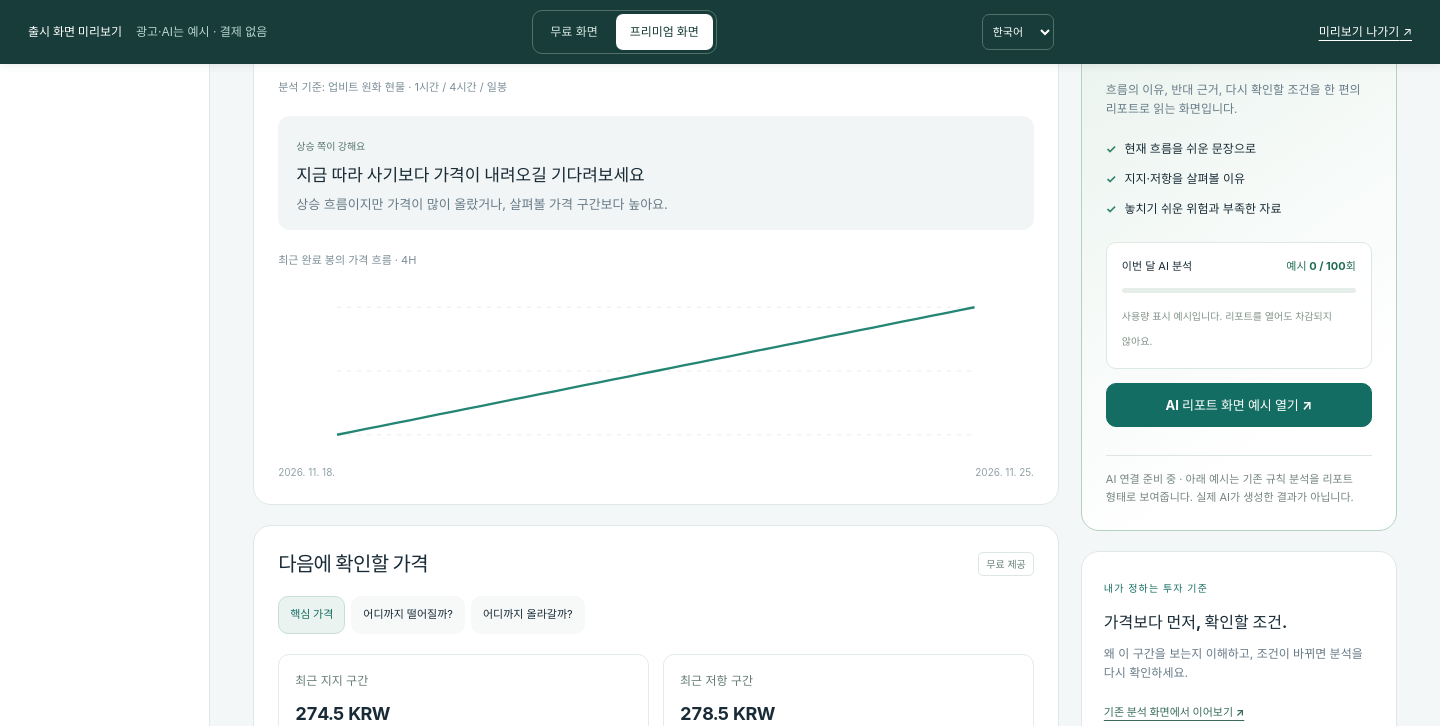
Test case: Customer plan launch preview › keeps report snapshots tied to their asset and hides them when switching back to free
(page scrolled)
Click the button "AI 리포트 화면 예시 열기 ↗" at (1239, 405), box left=1106, top=383, right=1372, bottom=427
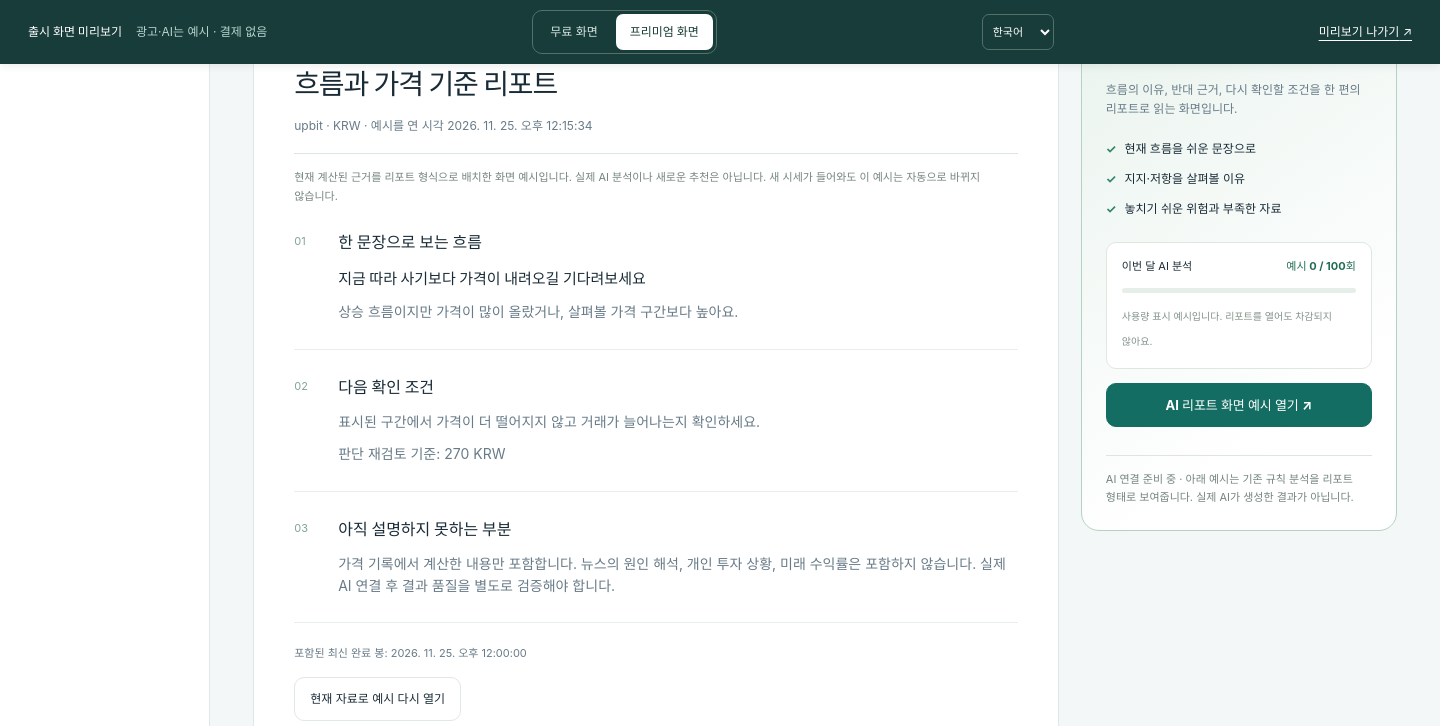
Expected: the 1st heading is shown, left=294, top=28, right=557, bottom=101
Click the button "무료 화면" at (574, 32), box left=536, top=14, right=612, bottom=50
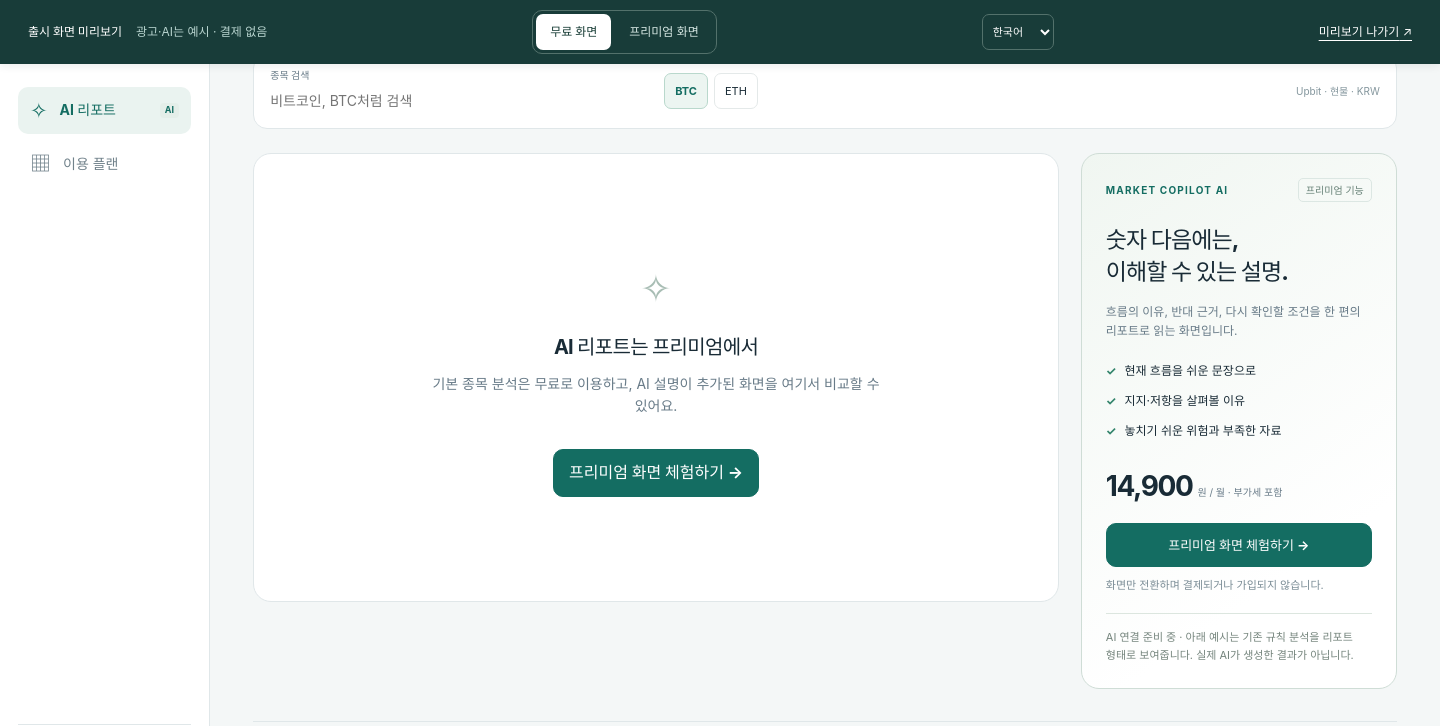
Expected: the text "AI 미연결 · 규칙 기반 예시" is not shown
Expected: the heading "AI 리포트는 프리미엄에서" is shown, left=554, top=335, right=758, bottom=359
Click the button "프리미엄 화면" at (664, 32), box left=615, top=14, right=713, bottom=50
(page scrolled)
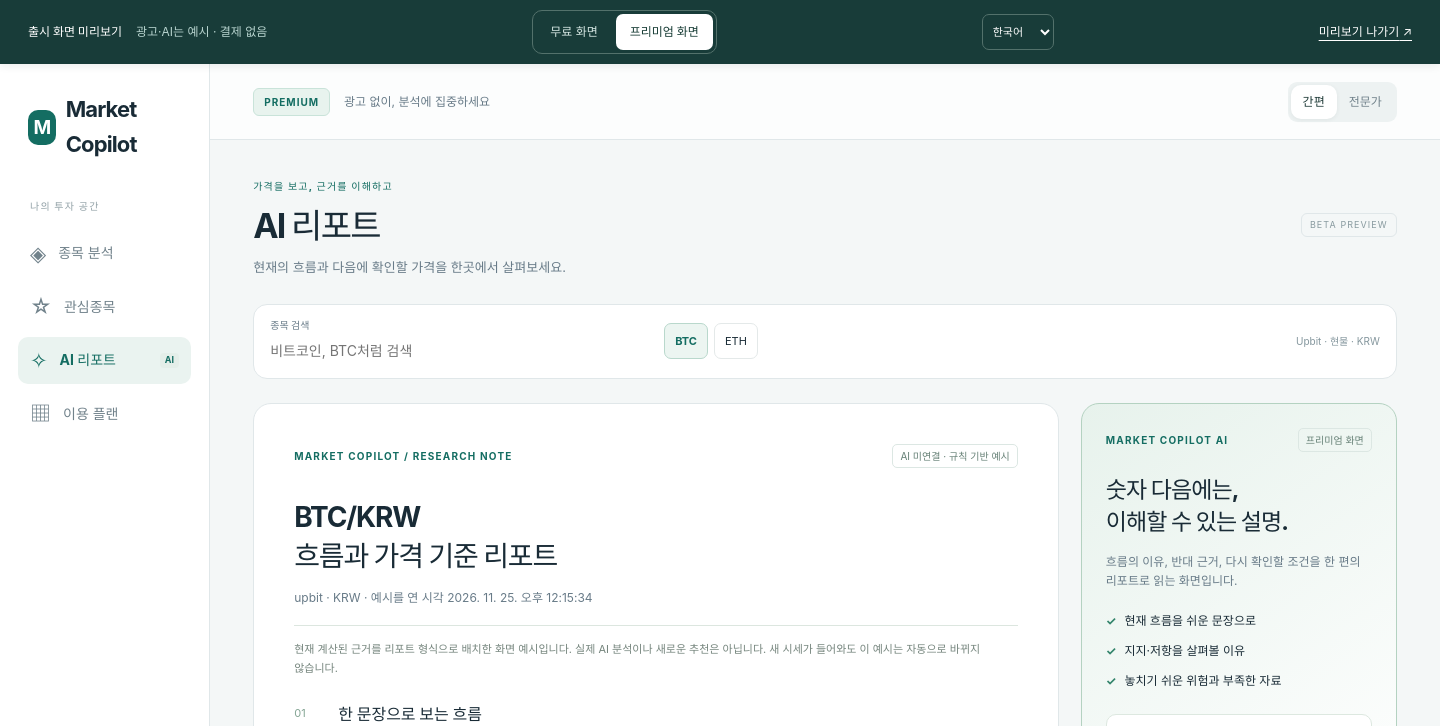
Click the button "ETH" at (736, 341), box left=714, top=323, right=758, bottom=359
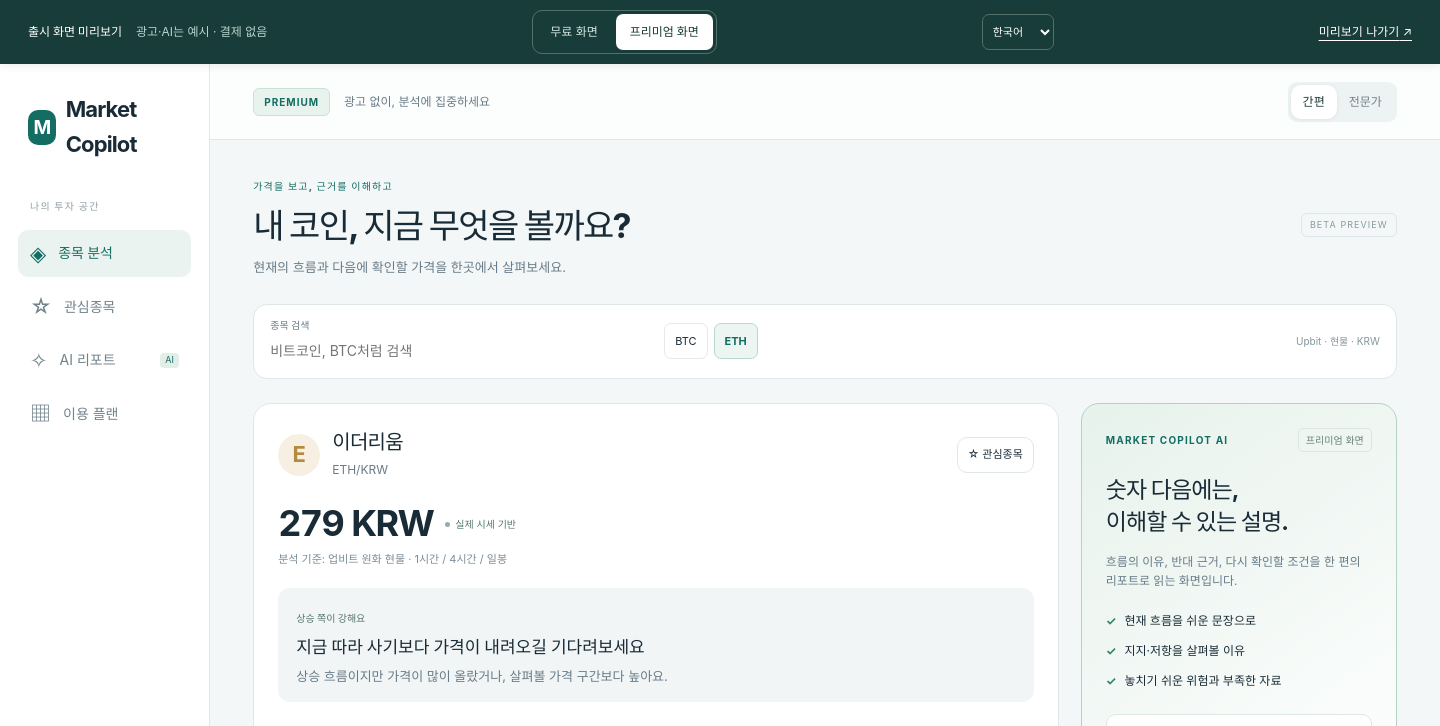
Click the button "✧ AI 리포트 AI" at (104, 360), box left=18, top=337, right=191, bottom=384
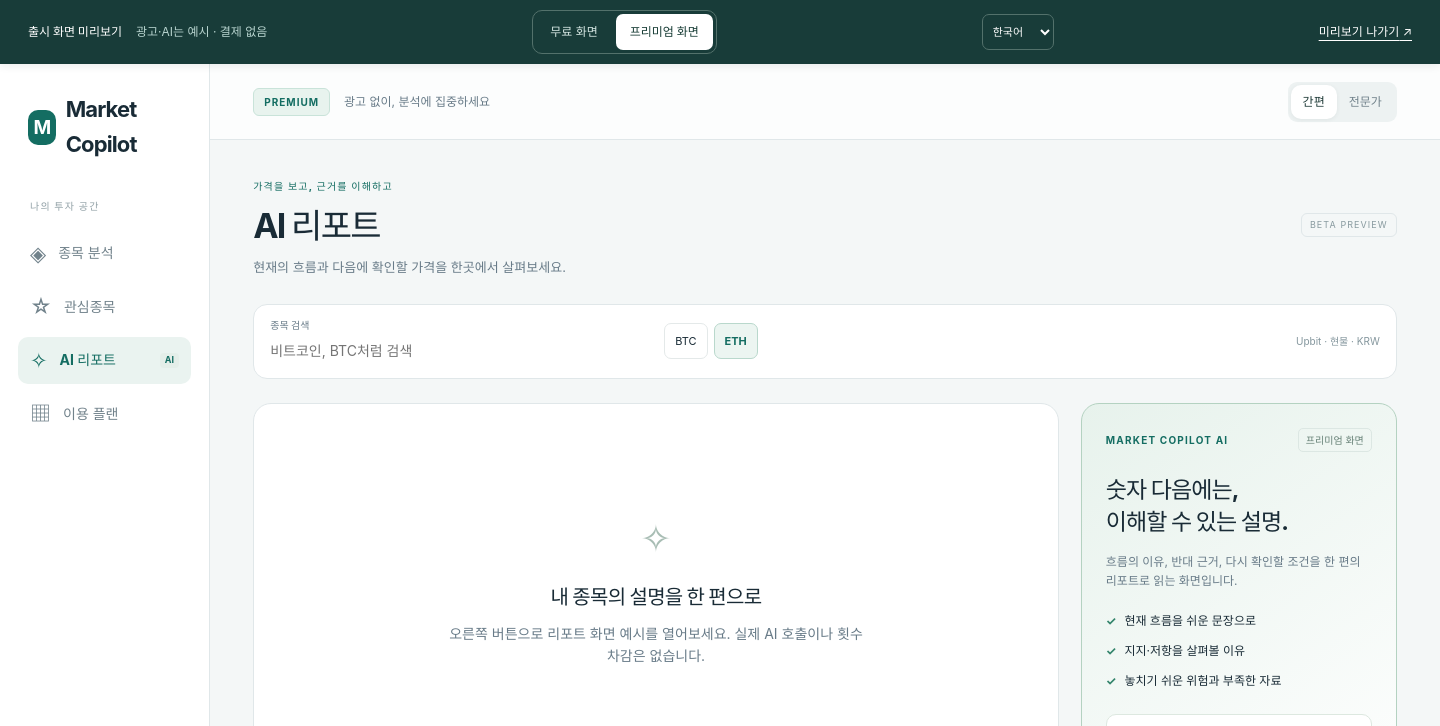
Expected: the heading "내 종목의 설명을 한 편으로" is shown, left=551, top=585, right=762, bottom=609
